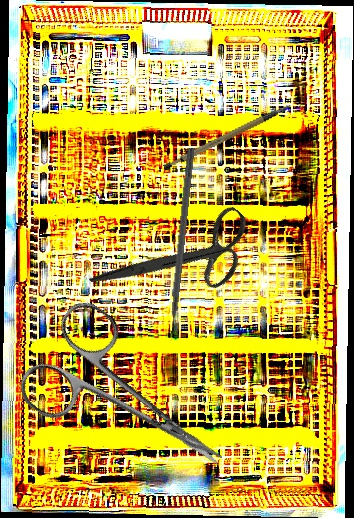Hook Surgical: (165, 147, 195, 342)
Iris Scissors: (10, 294, 253, 514), (87, 166, 268, 350)
Scalpel Handle: (157, 104, 299, 172)
